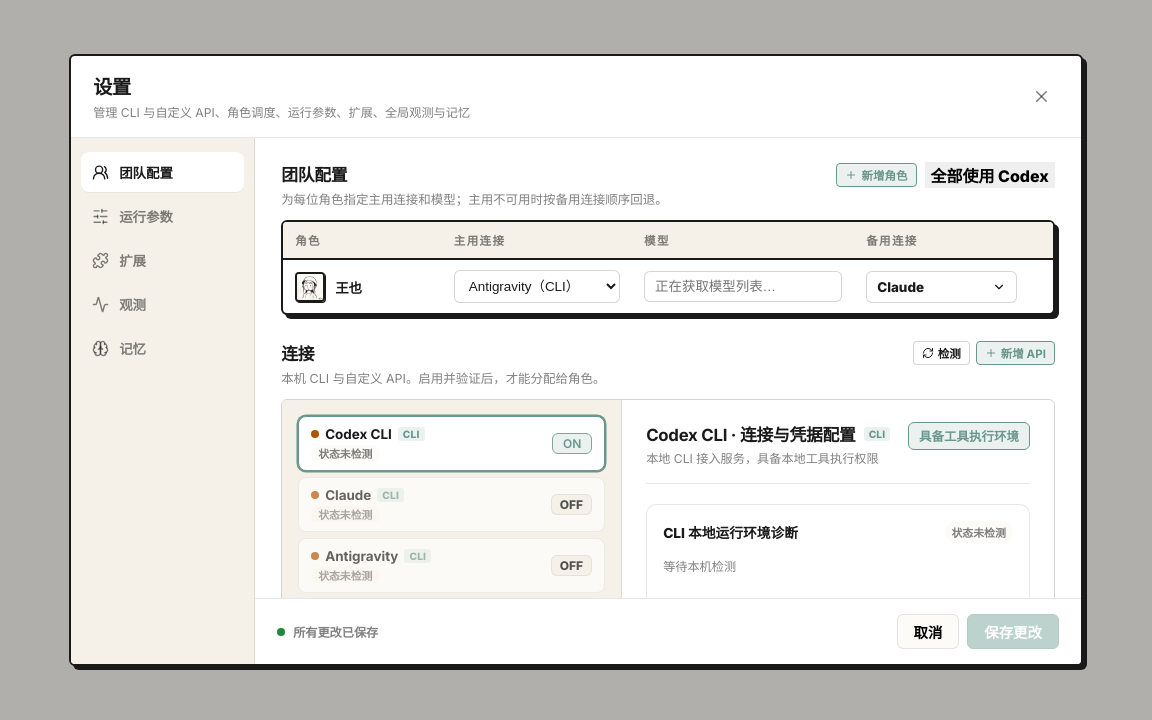
Test: SettingsModal › opens the memory tab inside settings without a save bar
The width and height of the screenshot is (1152, 720).
Click the button "记忆" at [163, 348], box [81, 328, 244, 368]
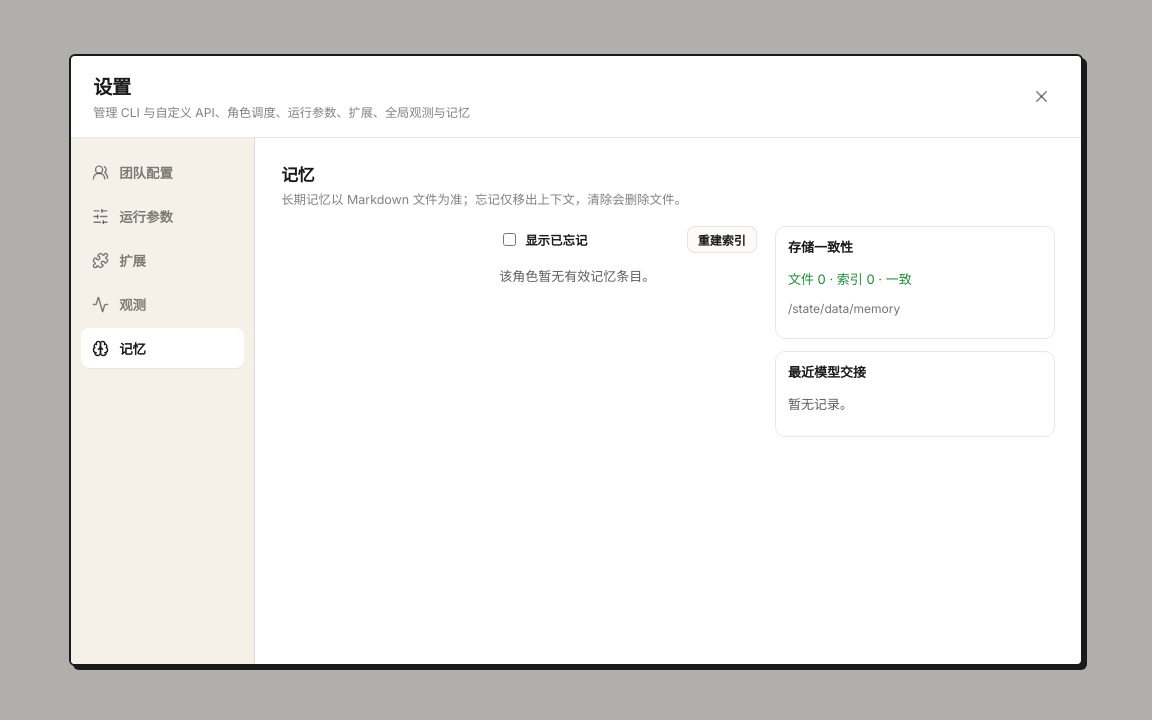
Expected: the element named "记忆管理" is shown, [281, 162, 1055, 449]
Expected: the text "长期记忆以 Markdown 文件为准；忘记仅移出上下文，清除会删除文件。" is shown, [281, 192, 687, 207]
Expected: the button with test id "settings-save" is gone
